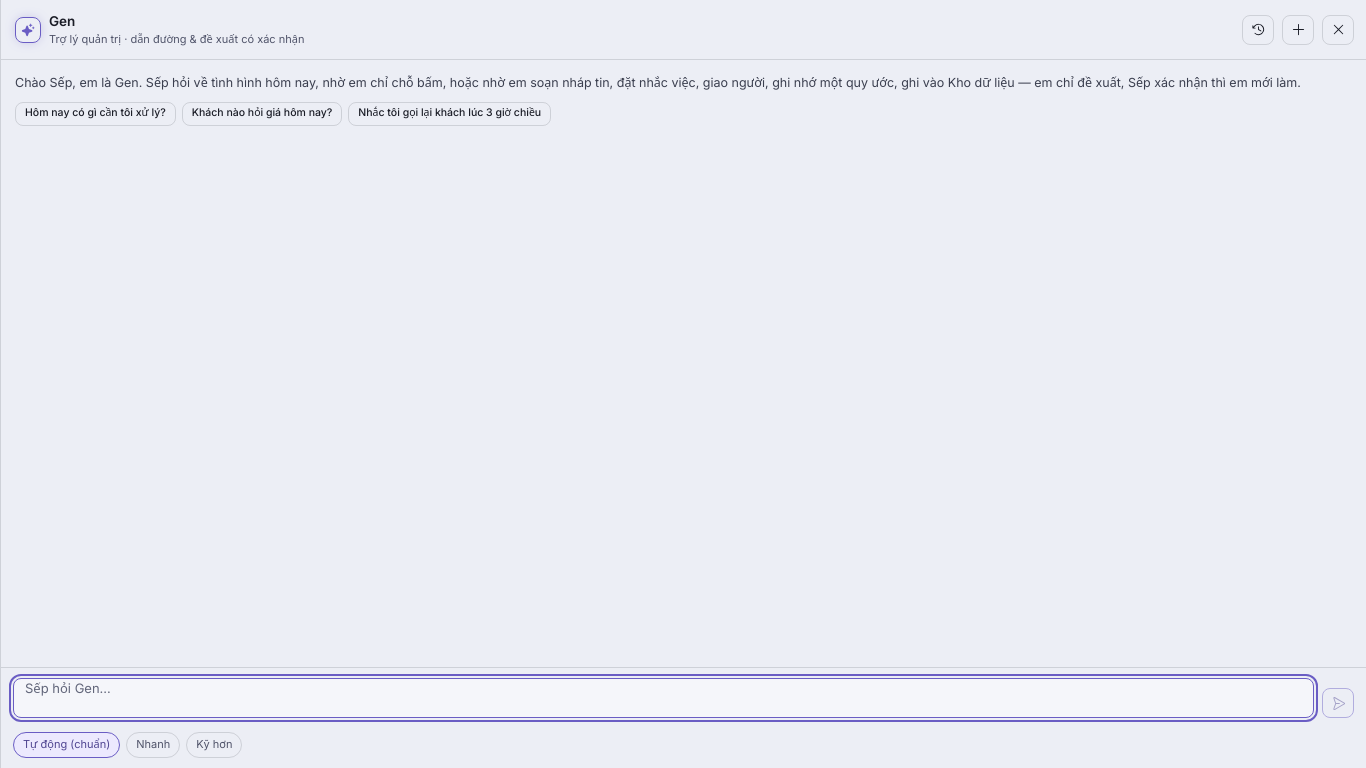
Test: GenPanel › sends a question with screen context and renders streamed steps
The image size is (1366, 768).
Expected: the text "Chào Sếp, em là Gen" is shown, [15,74,1352,92]
Expected: the button "Khách nào hỏi giá hôm nay?" is shown, [182,102,342,126]
Type "Hôm nay có gì gấp?" into the text box named "Câu hỏi cho Gen" at coordinates (664, 698), box [13,678,1314,718]
Then press Enter
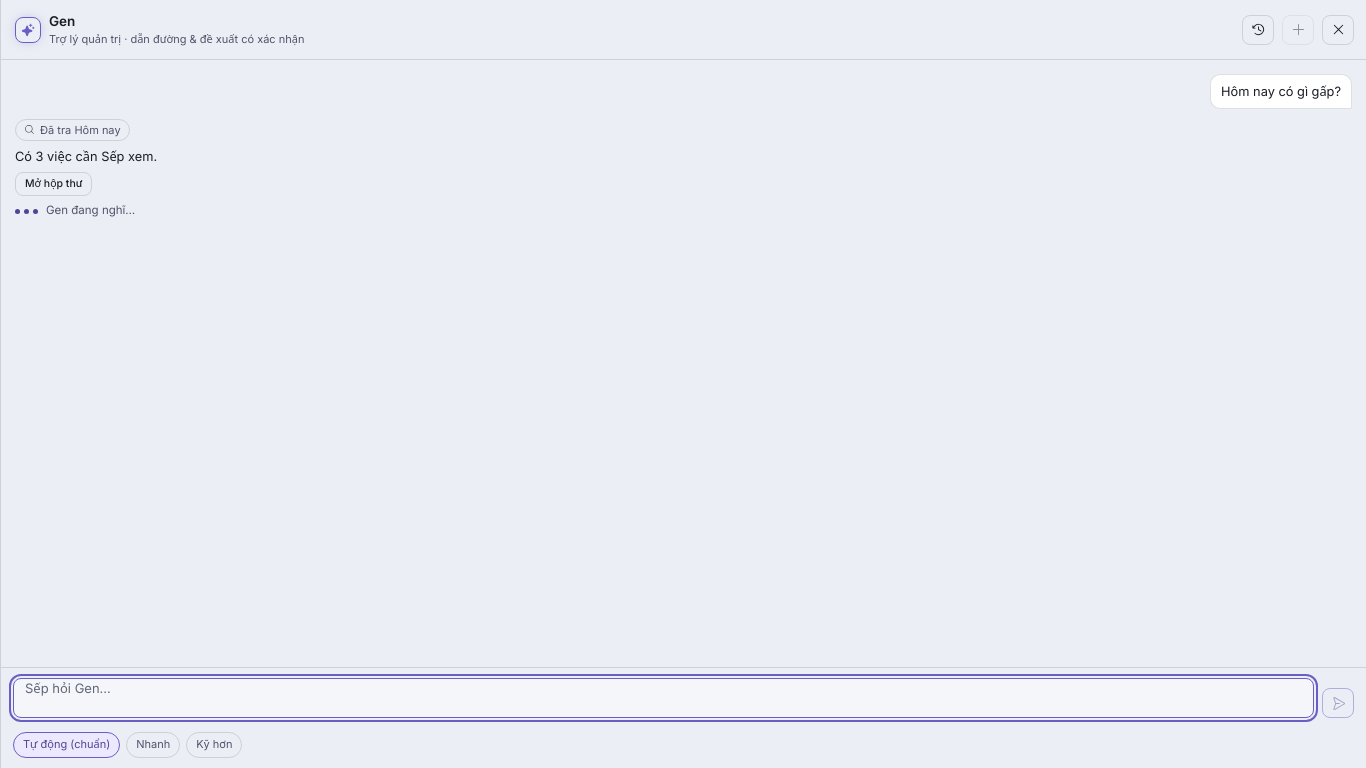
Expected: the text "Hôm nay có gì gấp?" is shown, [1210,74,1352,109]
Expected: the text "Gen đang nghĩ…" is shown, [15,202,135,220]
Expected: the text "Có 3 việc cần Sếp xem." is shown, [15,147,157,166]
Click the button "Mở hộp thư" at coordinates (54, 184), box [15,172,92,196]
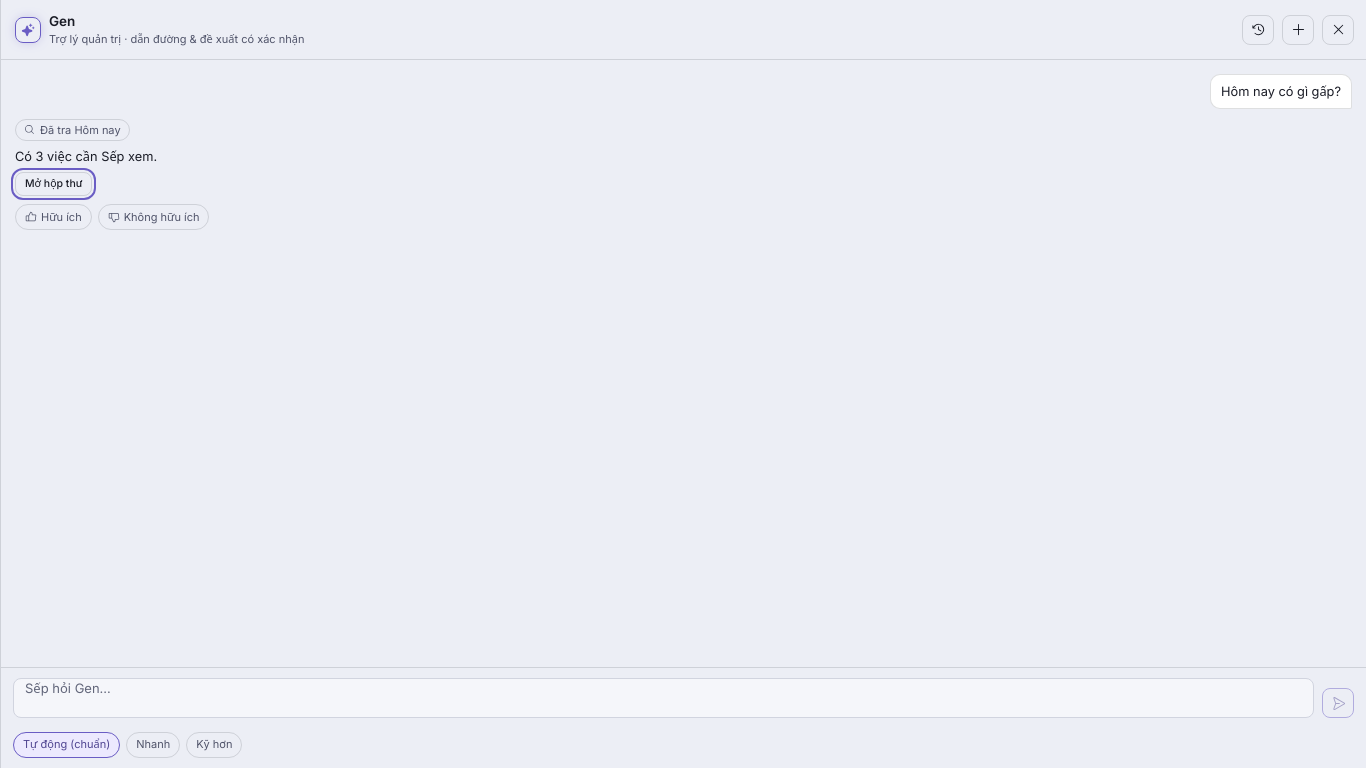
Expected: the text "Gen đang nghĩ" is gone
